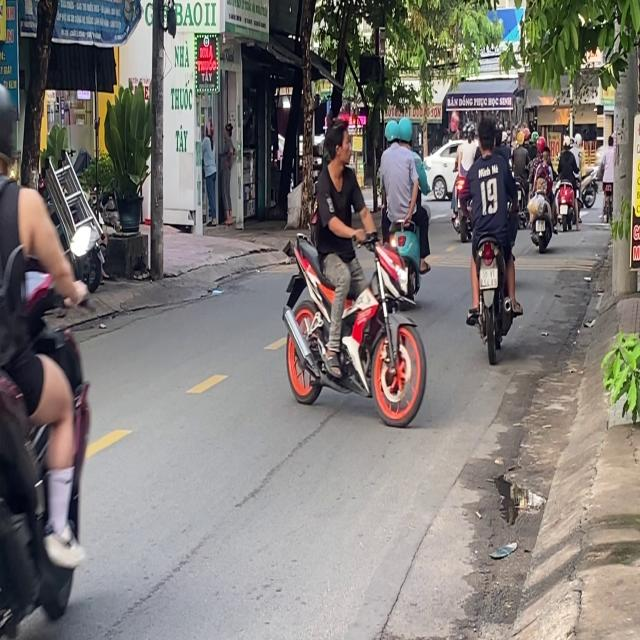helmet: (0, 78, 18, 174), (397, 114, 412, 146), (384, 116, 400, 144)
licenseplate: (0, 75, 97, 637), (278, 108, 432, 424), (462, 109, 523, 358)
motorcyclist: (324, 113, 354, 166), (476, 114, 497, 153)
nohelmet: (480, 267, 497, 287)
